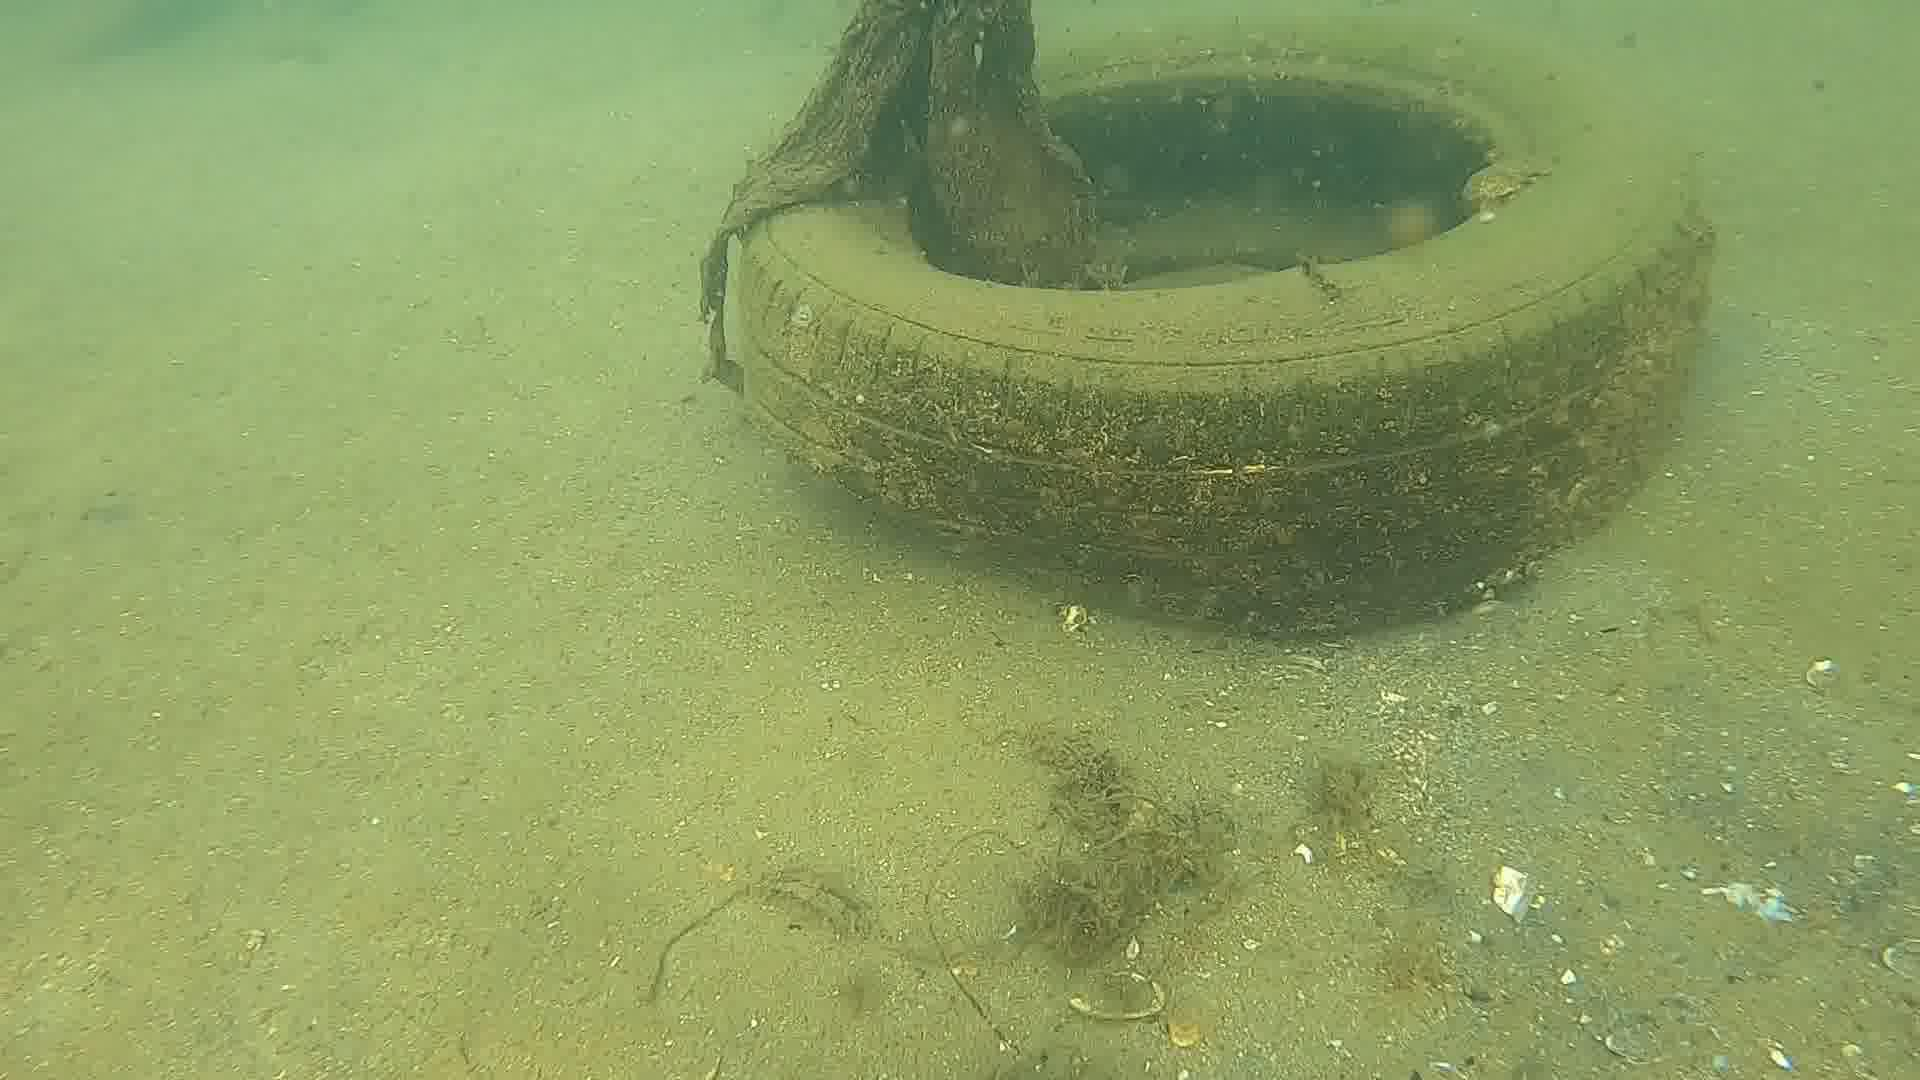tire: (715, 7, 1724, 646)
